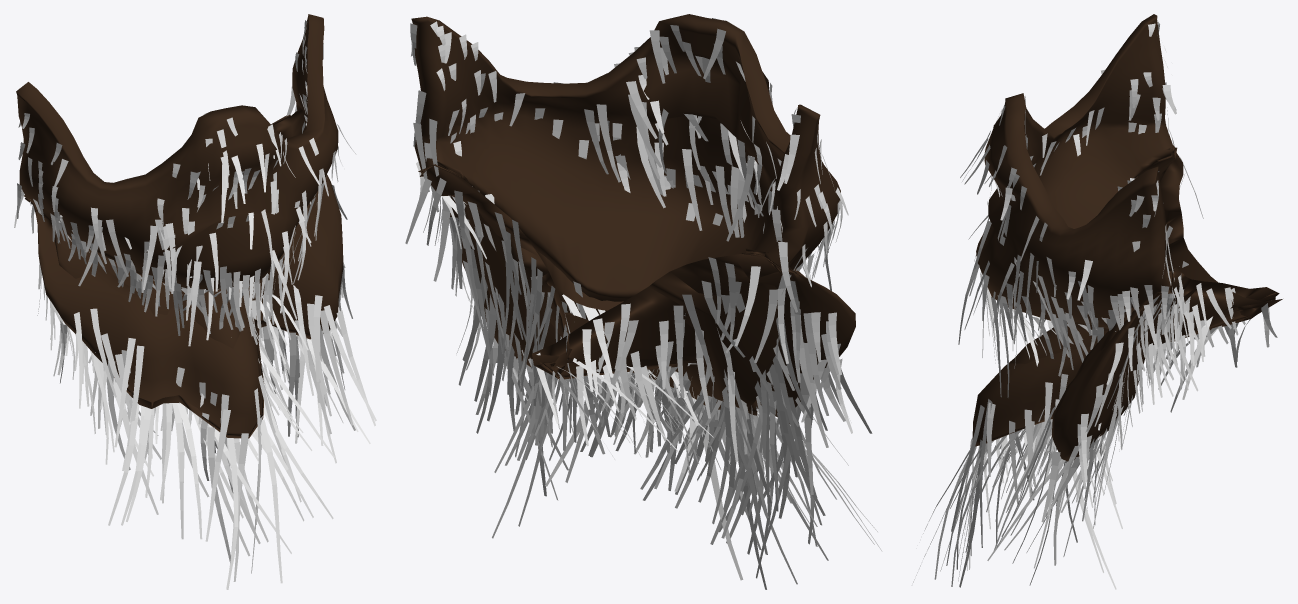
Rendered from beard-huscarl-short.glb.
The picture shows the model from 3 angles, left to right: view 1: azimuth 30°, elevation 25°; view 2: azimuth 150°, elevation 25°; view 3: azimuth 270°, elevation 25°; orthographic projection. The views are drawn at different scales.
Visible parts, largest first — view 1: beard-huscarl-short_1, beard__strands; view 2: beard-huscarl-short_1, beard__strands; view 3: beard-huscarl-short_1, beard__strands.
Part boxes in pixels (x1,y1,x2,y2): beard-huscarl-short_1: [16, 14, 343, 438]; beard__strands: [14, 20, 376, 589]; beard-huscarl-short_1: [411, 14, 855, 423]; beard__strands: [405, 18, 882, 589]; beard-huscarl-short_1: [972, 14, 1282, 461]; beard__strands: [913, 22, 1277, 589].
Bounding box in the file's own units: 0.1621 × 0.231 × 0.1543.
